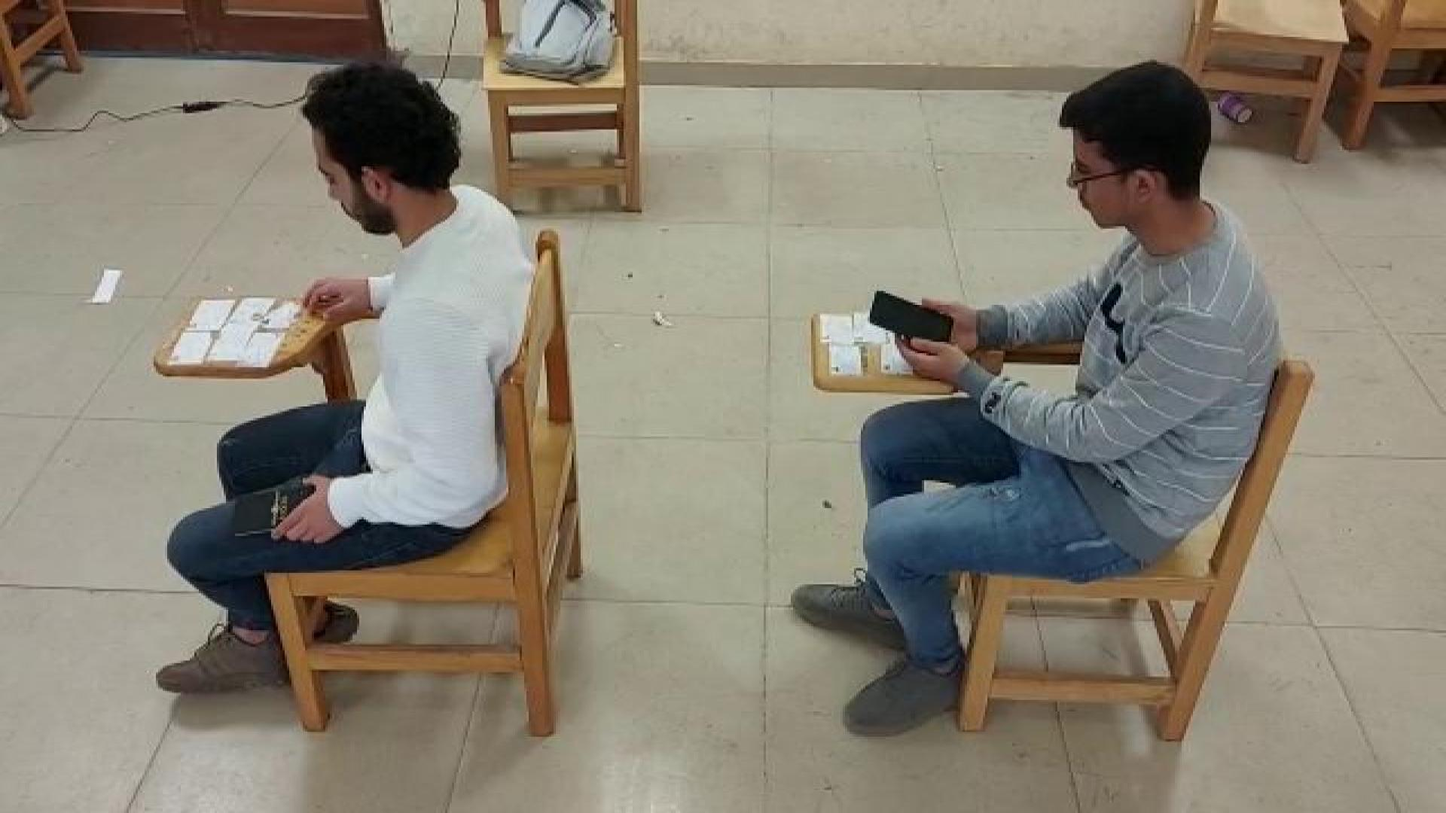phone: (228, 467, 316, 543), (870, 287, 953, 349)
